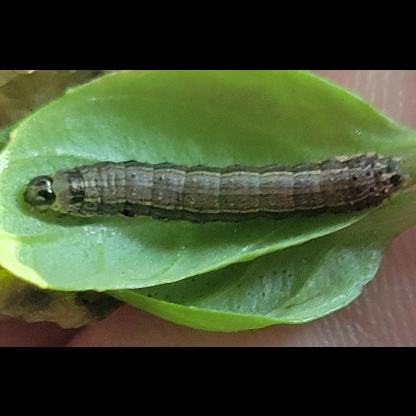Fall Armyworm Larvae: (21, 148, 416, 228)
